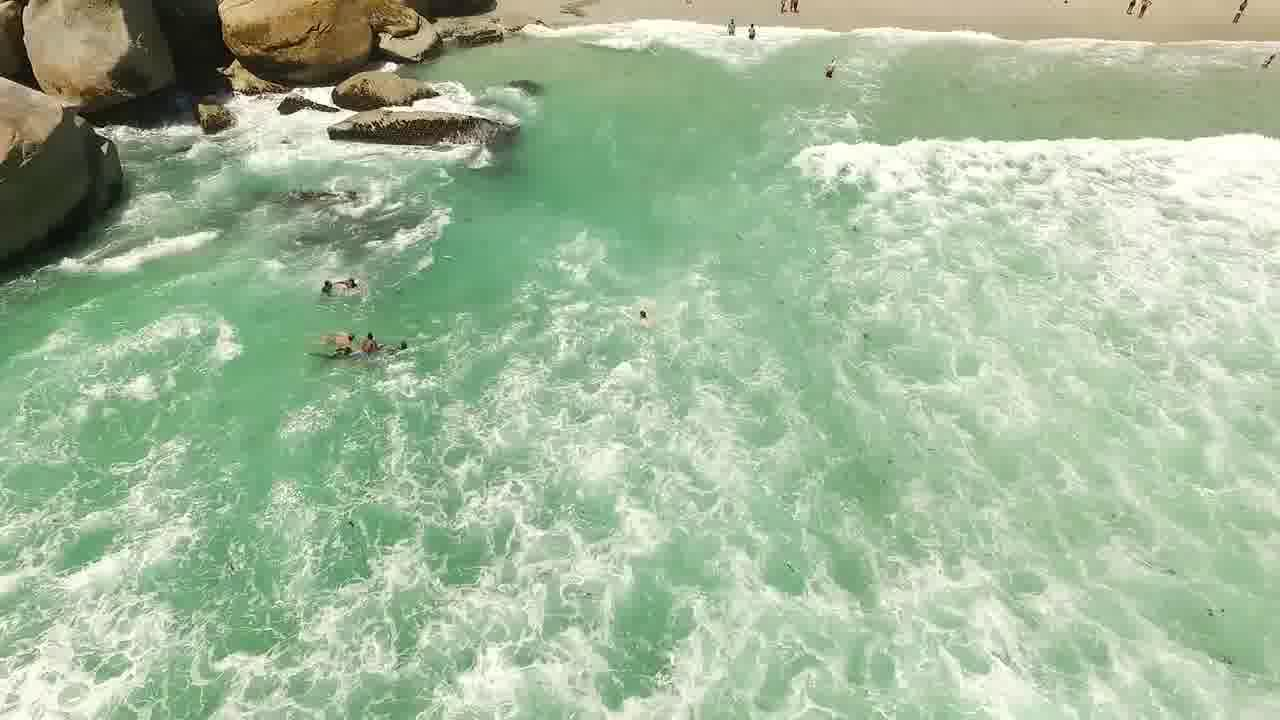human: (619, 294, 665, 325), (340, 258, 372, 295), (814, 50, 849, 83), (329, 320, 353, 368), (356, 322, 385, 353), (742, 10, 765, 46), (390, 326, 414, 354), (713, 4, 733, 35), (313, 264, 332, 296)
